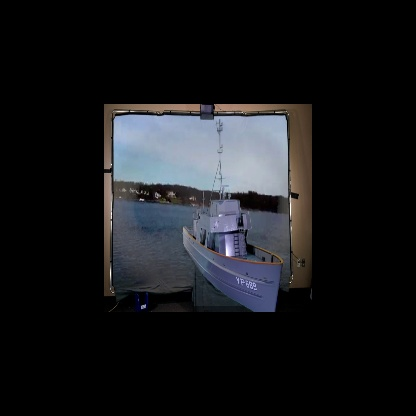YP689: (182, 120, 284, 312)
